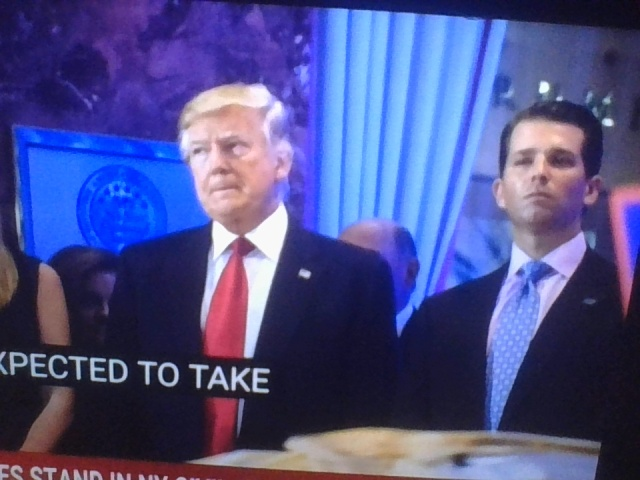fake: (493, 80, 603, 236)
